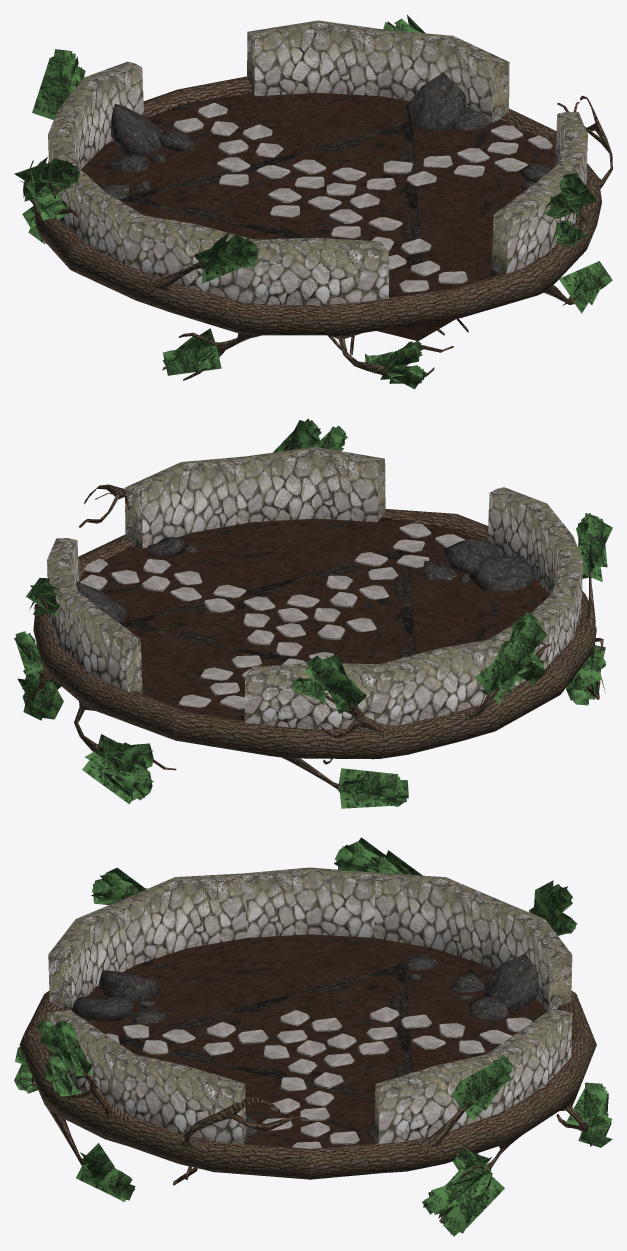
The model's file is Bridge_Nexus_Art.glb.
3 views of the same model, one above another, from view 1: azimuth 30°, elevation 25°; view 2: azimuth 150°, elevation 25°; view 3: azimuth 270°, elevation 25° (orthographic).
Visible parts, largest first — view 1: Bridge_Nexus_Art; view 2: Bridge_Nexus_Art; view 3: Bridge_Nexus_Art.
Boxes of the visible parts, x1=… form: Bridge_Nexus_Art: x1=14, y1=15, x2=612, y2=389; Bridge_Nexus_Art: x1=14, y1=418, x2=612, y2=808; Bridge_Nexus_Art: x1=14, y1=837, x2=612, y2=1236.
Size of the model in its own units: 15.64 by 5.81 by 15.92.
Materials: 5 (5 with a texture image).
